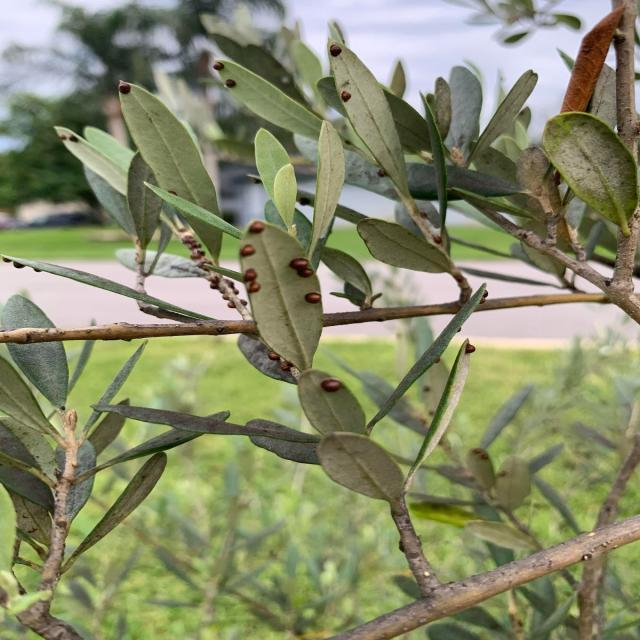Black Scale: (208, 274, 248, 310), (181, 235, 216, 272), (0, 255, 43, 272), (289, 257, 315, 278), (243, 268, 261, 297), (320, 377, 345, 392), (248, 220, 266, 234), (239, 244, 255, 257), (305, 292, 321, 304), (478, 290, 489, 306), (118, 81, 131, 94), (267, 349, 280, 361), (281, 361, 294, 373), (330, 44, 341, 57), (213, 60, 224, 72), (340, 90, 351, 102), (464, 342, 475, 354), (433, 234, 442, 247), (225, 79, 236, 88), (167, 189, 179, 196), (69, 136, 81, 142)
